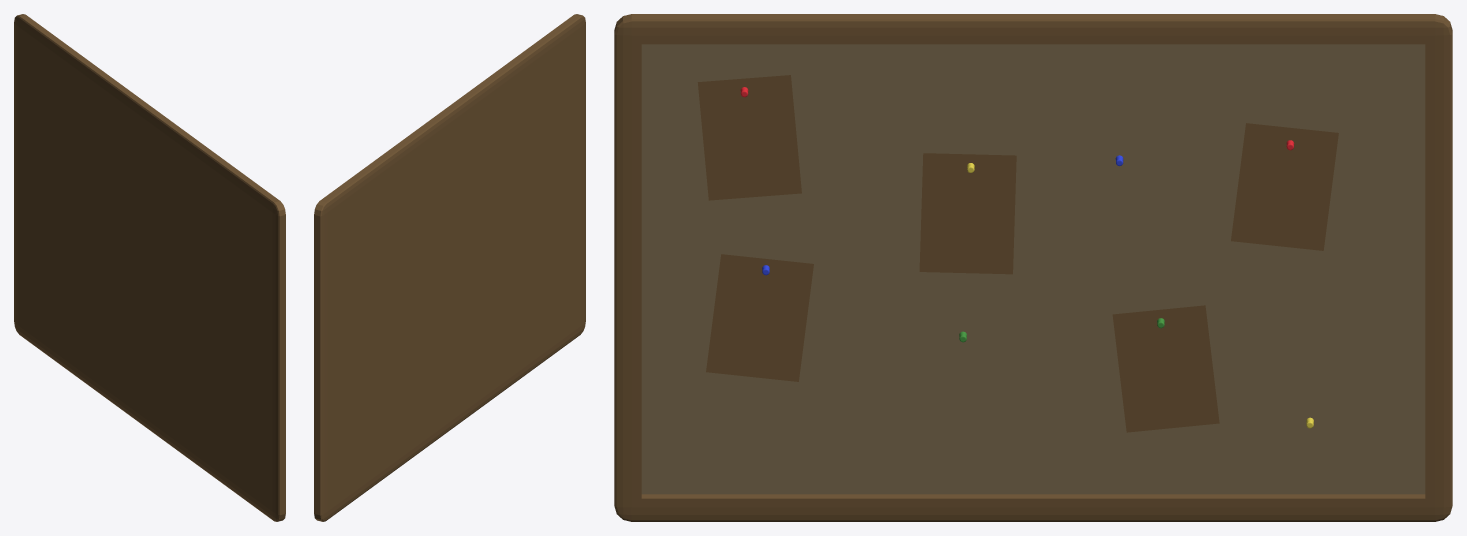
Rendered from Bulletin Board.fbx.
3 views of the same model, side by side, from view 1: azimuth 30°, elevation 25°; view 2: azimuth 150°, elevation 25°; view 3: azimuth 270°, elevation 25° (orthographic). The views are drawn at different scales.
Visible parts, largest first — view 1: Board; view 2: Board; view 3: Board.
Part boxes in pixels (box(x1,y1,x2,y2)): Board: box(14, 14, 285, 521); Board: box(314, 14, 585, 521); Board: box(614, 14, 1452, 521).
Size of the model in its own units: 31.43 by 985 by 1486.
